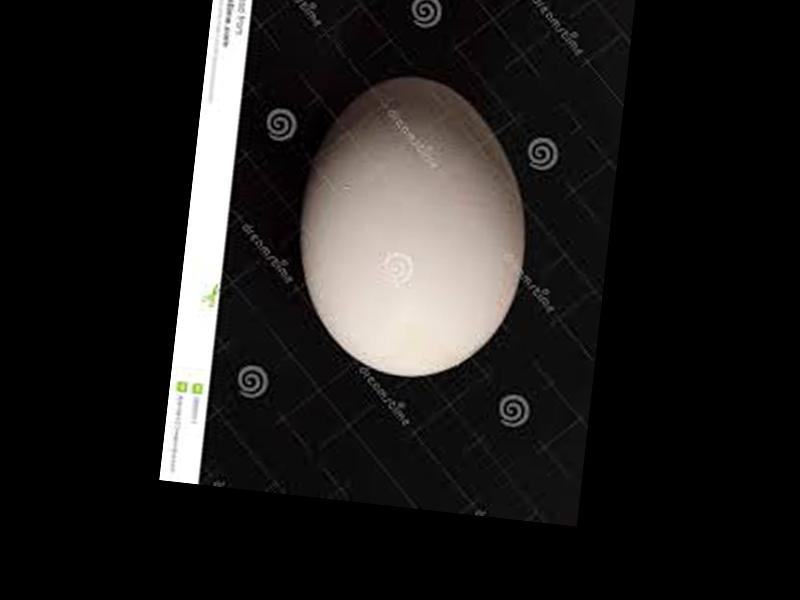Eggs: (285, 65, 541, 390)
